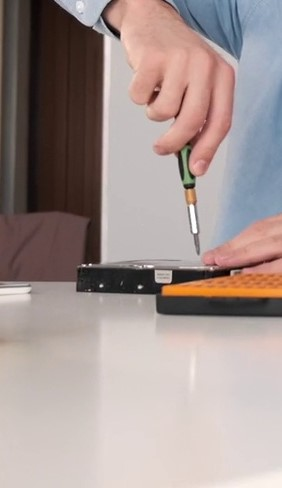screwdriver: (162, 75, 214, 258)
